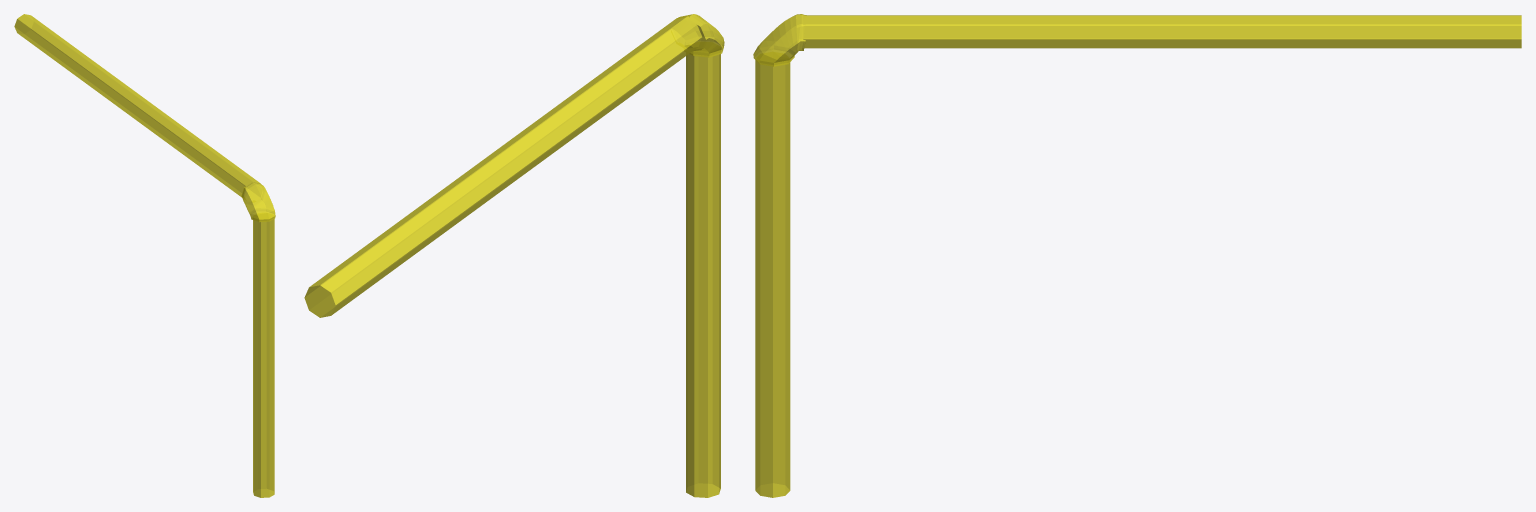
The model's file is NewFluidSystem.fbx.
3 views of the same model, side by side, from view 1: azimuth 30°, elevation 25°; view 2: azimuth 150°, elevation 25°; view 3: azimuth 270°, elevation 25° (orthographic). The views are drawn at different scales.
Visible parts, largest first — view 1: Angled.001; view 2: Angled.001; view 3: Angled.001.
Boxes of the visible parts, x1,y1,x2,y2 form: Angled.001: (14, 14, 275, 497); Angled.001: (304, 14, 724, 497); Angled.001: (753, 14, 1521, 497).
Size of the model in its own units: 0.3506 by 4.03 by 5.91.
